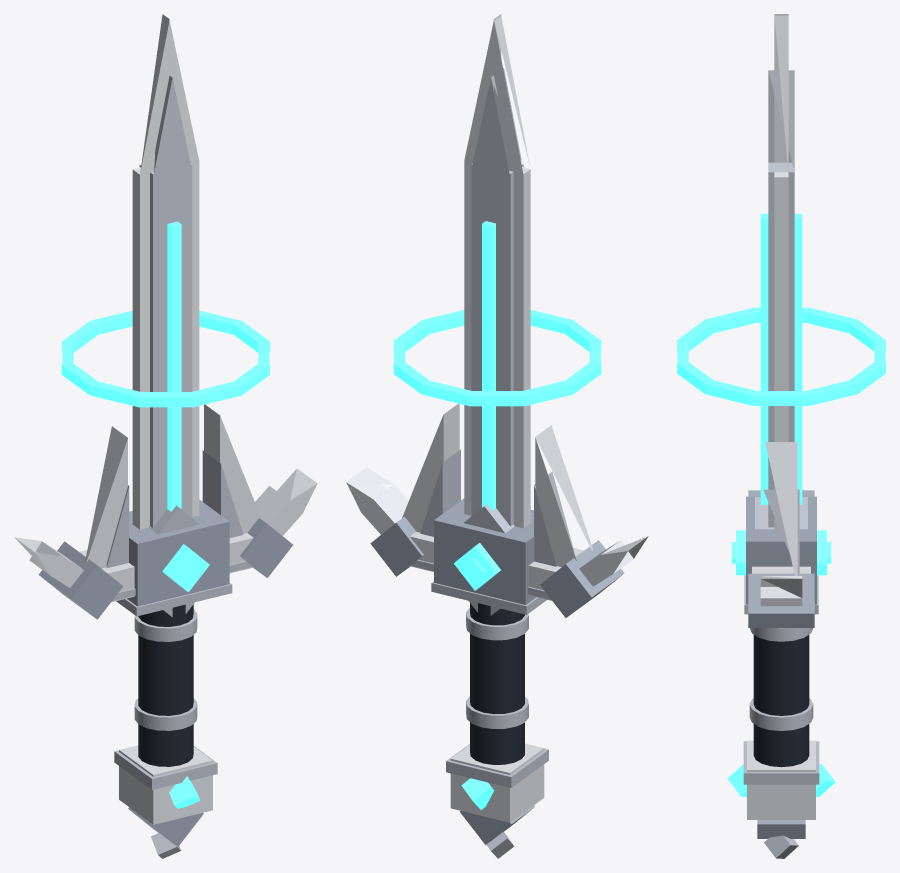
3 renders of one model, left to right at view 1: azimuth 30°, elevation 25°; view 2: azimuth 150°, elevation 25°; view 3: azimuth 270°, elevation 25°, orthographic.
Visible parts, largest first — view 1: glint-stiletto; view 2: glint-stiletto; view 3: glint-stiletto.
Boxes of the visible parts, box(x1,y1,x2,y2) form: glint-stiletto: box(14, 14, 317, 858); glint-stiletto: box(346, 14, 648, 858); glint-stiletto: box(677, 14, 885, 858).
Bounding box in the file's own units: 0.2477 × 0.7059 × 0.158.
